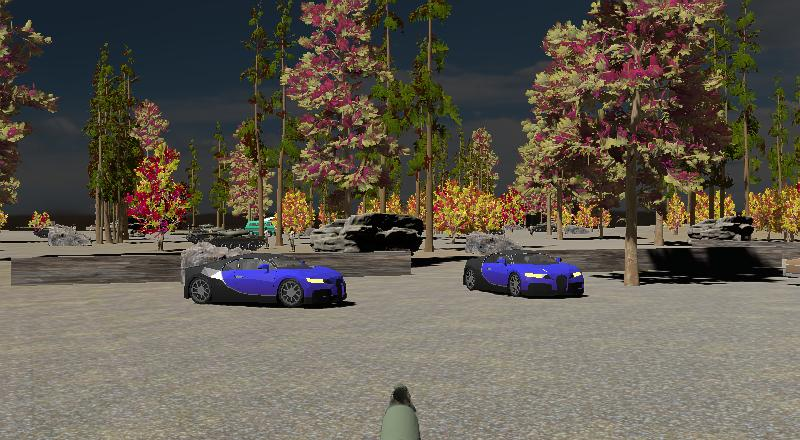Tank: (205, 228, 269, 251)
car: (181, 250, 348, 309), (461, 247, 585, 298), (781, 240, 800, 283)
